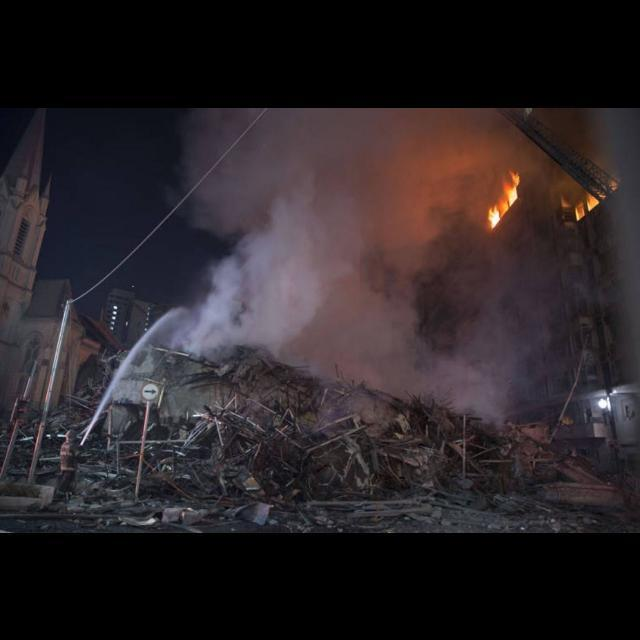Fire: (484, 168, 518, 228), (575, 193, 599, 219)
Smoke: (158, 108, 640, 438)
